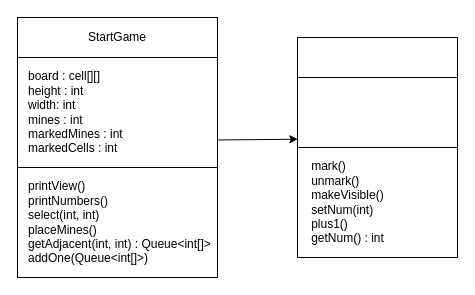
Image size: 475x295. Some labels were removed from this diagram. Each missing label, with the centre of its shape:
"cell" goes at point 377,57.
"number : int visible : bool marked : bool" goes at point 377,112.
